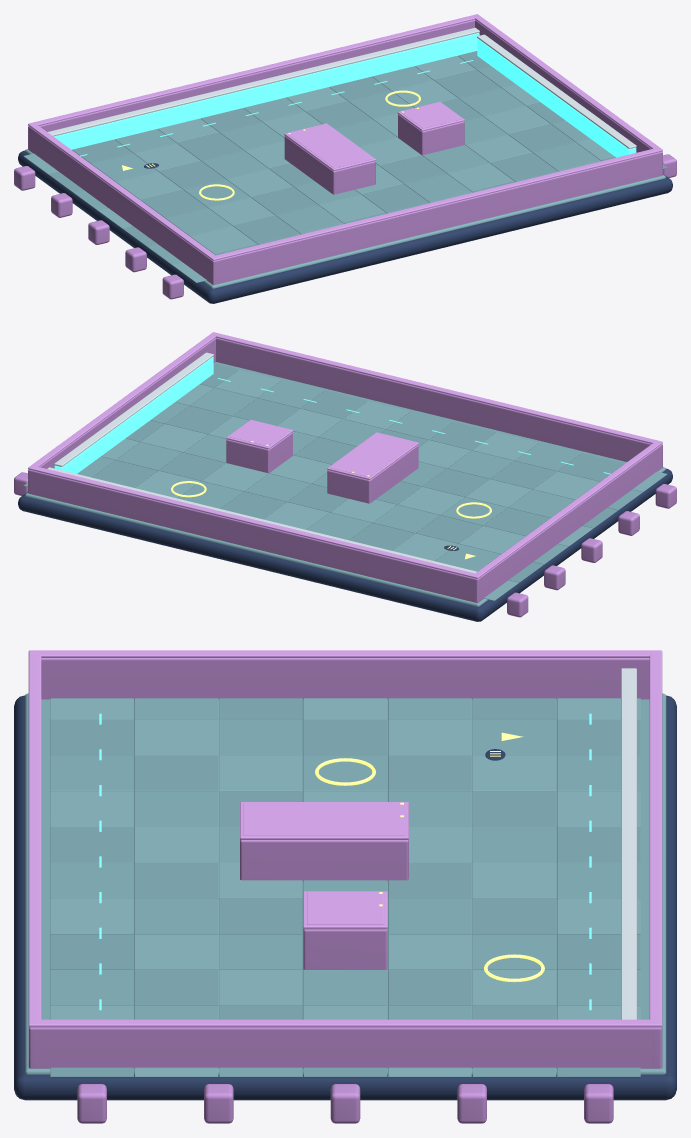
File: echo.glb
3 renders of one model, top to bottom at view 1: azimuth 30°, elevation 25°; view 2: azimuth 150°, elevation 25°; view 3: azimuth 270°, elevation 25°, orthographic. The views are drawn at different scales.
Parts seen in each view (by area): view 1: SOLID 1 border, Floating island, SOLID 6 reflector, SOLID 2 border, SOLID 0 border, SOLID crown 6 reflector, SOLID 7 reflector, SOLID crown 1 border, SOLID crown 0 border, SOLID 4 cover, Ground, Roof trim (+62 smaller); view 2: SOLID 0 border, SOLID 1 border, Floating island, SOLID 2 border, Ground, SOLID 7 reflector, SOLID crown 0 border, SOLID crown 1 border, SOLID 4 cover, Roof trim, SOLID 3 border, SOLID 5 cover (+61 smaller); view 3: SOLID 3 border, SOLID 2 border, Floating island, Ground, SOLID 4 cover, SOLID crown 3 border, SOLID crown 6 reflector, Roof trim, SOLID crown 1 border, SOLID crown 0 border, SOLID crown 2 border, SOLID 5 cover (+82 smaller).
Part boxes in pixels (box(x1,y1,x2,y2)): SOLID 1 border: box(210, 152, 662, 284); Floating island: box(18, 150, 672, 303); SOLID 6 reflector: box(53, 32, 479, 149); SOLID 2 border: box(28, 126, 218, 284); SOLID 0 border: box(39, 19, 474, 131); SOLID crown 6 reflector: box(47, 27, 479, 136); SOLID 7 reflector: box(477, 38, 636, 157); SOLID crown 1 border: box(210, 147, 662, 260); SOLID crown 0 border: box(28, 14, 479, 125); SOLID 4 cover: box(284, 136, 375, 194); Ground: box(25, 59, 665, 288); Roof trim: box(287, 124, 372, 168); SOLID 0 border: box(29, 470, 480, 602); SOLID 1 border: box(216, 337, 662, 466); Floating island: box(18, 468, 672, 621); SOLID 2 border: box(472, 444, 662, 602); Ground: box(25, 362, 665, 606); SOLID 7 reflector: box(54, 356, 213, 473); SOLID crown 0 border: box(28, 465, 480, 578); SOLID crown 1 border: box(210, 332, 662, 443); SOLID 4 cover: box(327, 445, 418, 503); Roof trim: box(330, 433, 415, 477); SOLID 3 border: box(28, 338, 215, 494); SOLID 5 cover: box(226, 432, 292, 473); SOLID 3 border: box(28, 1027, 662, 1068); SOLID 2 border: box(41, 658, 649, 699); Floating island: box(14, 695, 676, 1100); Ground: box(24, 693, 666, 1074); SOLID 4 cover: box(240, 839, 408, 881); SOLID crown 3 border: box(28, 1019, 662, 1027); SOLID crown 6 reflector: box(621, 668, 636, 1019); Roof trim: box(243, 803, 404, 835); SOLID crown 1 border: box(28, 650, 41, 1026); SOLID crown 0 border: box(649, 650, 662, 1027); SOLID crown 2 border: box(28, 650, 662, 657); SOLID 5 cover: box(303, 929, 387, 969).
Size of the model in its own units: 23.7 by 2.03 by 15.7.
